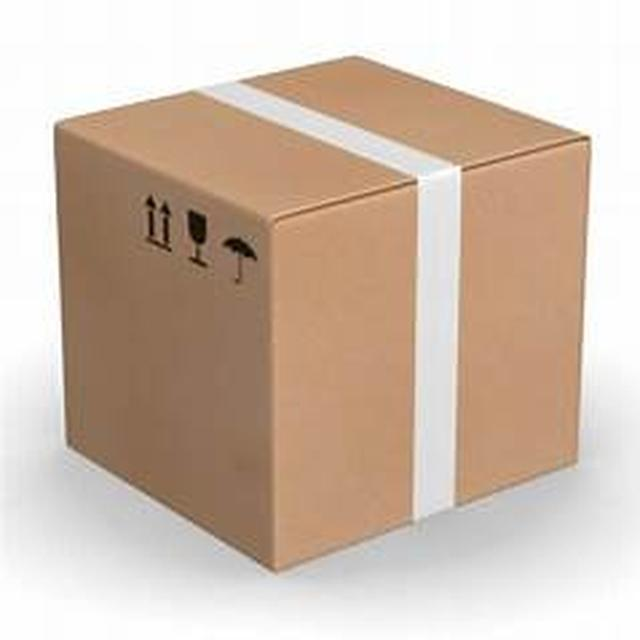box: (36, 32, 617, 608)
